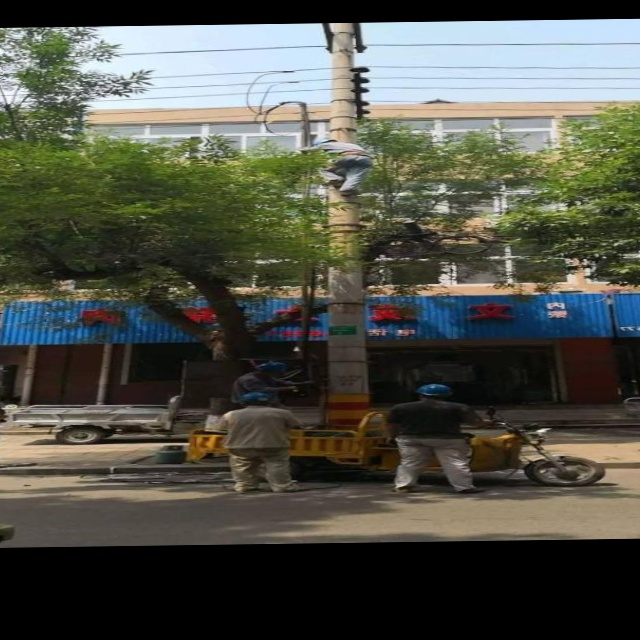Con_Casco: (414, 383, 450, 399)
Sin_Chaleco: (397, 401, 470, 436), (228, 407, 287, 445)
